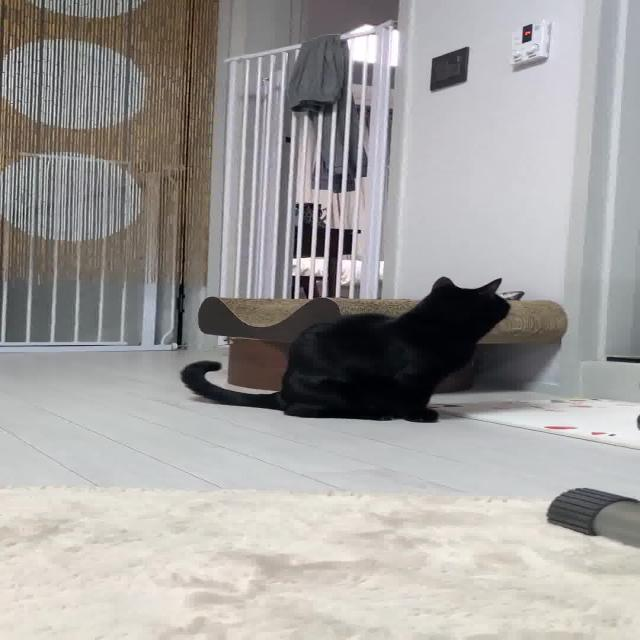cat: (163, 258, 534, 437)
